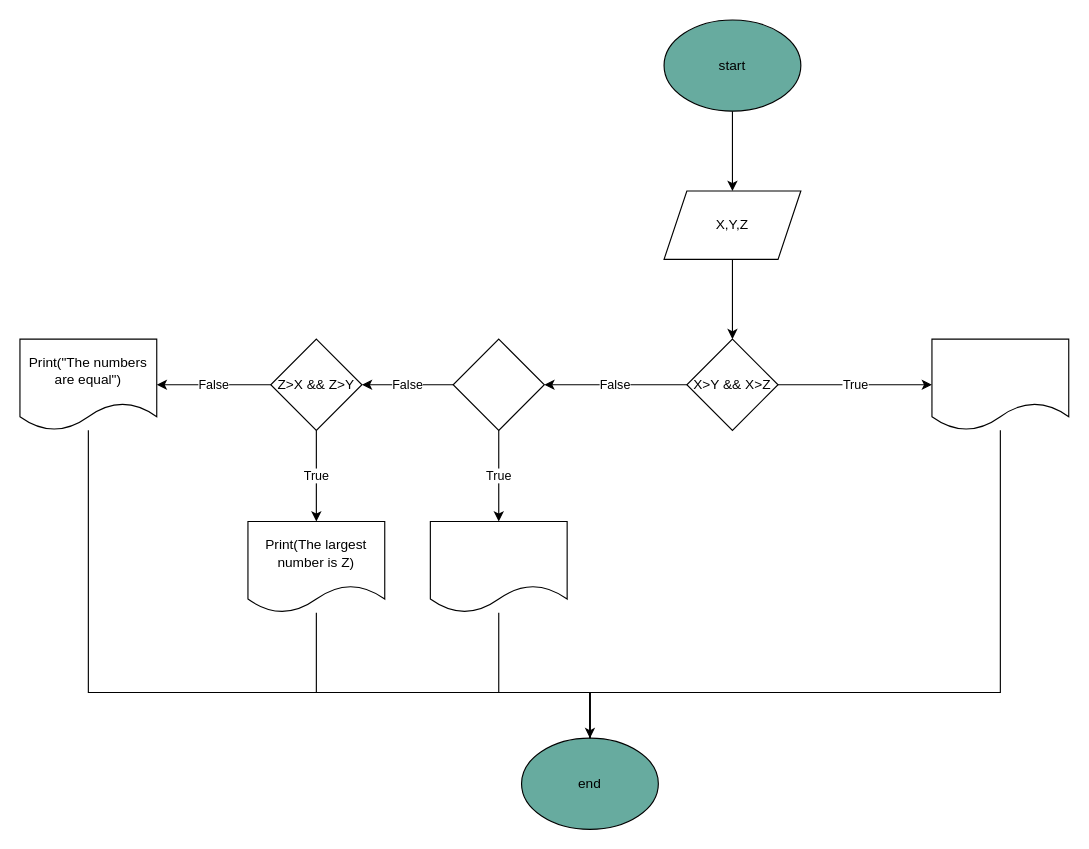
Image size: 1089x849. Some labels were removed from this diagram. Here are the shapes that lost their labels. From the top down, the centre of each, then its label:
pixel 498 384: Y>X && Y>Z
pixel 1000 384: Print("The largest number is X")
pixel 498 566: Print("The largest number is Y")
